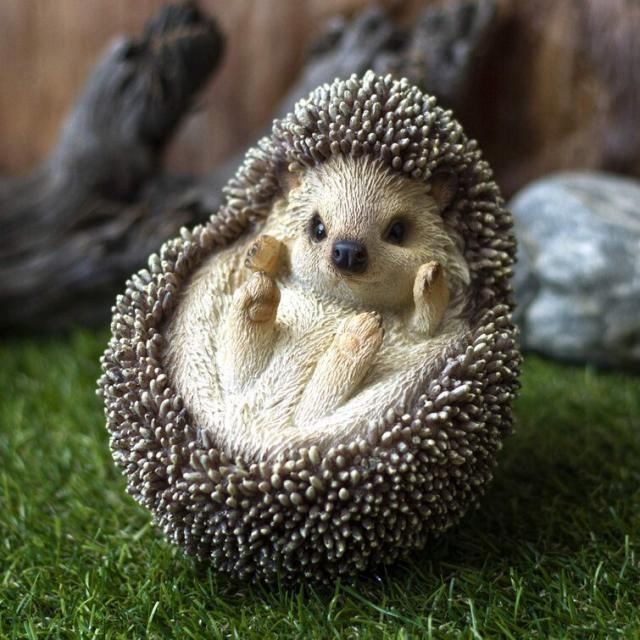Hedgehog: (107, 56, 540, 582)
